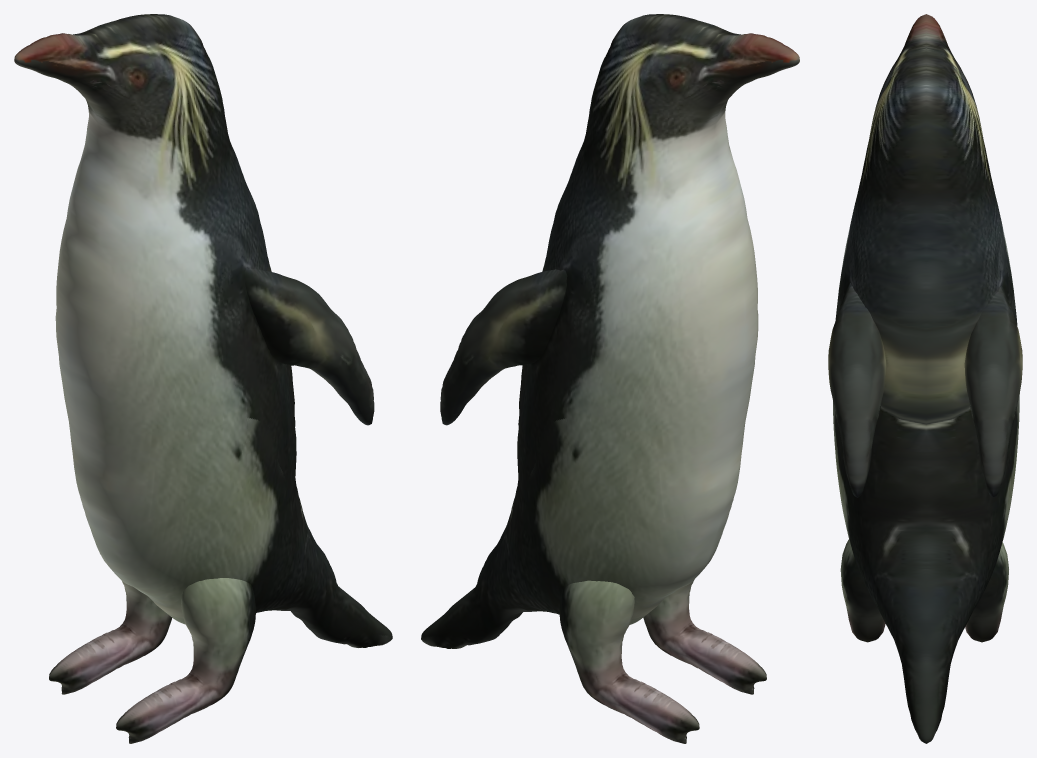
File: rockhopper-penguin.glb
3 views of the same model, side by side, from view 1: azimuth 30°, elevation 25°; view 2: azimuth 150°, elevation 25°; view 3: azimuth 270°, elevation 25° (orthographic). The views are drawn at different scales.
Visible parts, largest first — view 1: mm_frame (49); view 2: mm_frame (49); view 3: mm_frame (49).
Boxes of the visible parts, box(x1,y1,x2,y2) form: mm_frame (49): box(14, 14, 392, 743); mm_frame (49): box(421, 14, 799, 743); mm_frame (49): box(828, 14, 1022, 743).
Size of the model in its own units: 3.7 by 6.47 by 1.94.
Materials: 1 (1 with a texture image).
